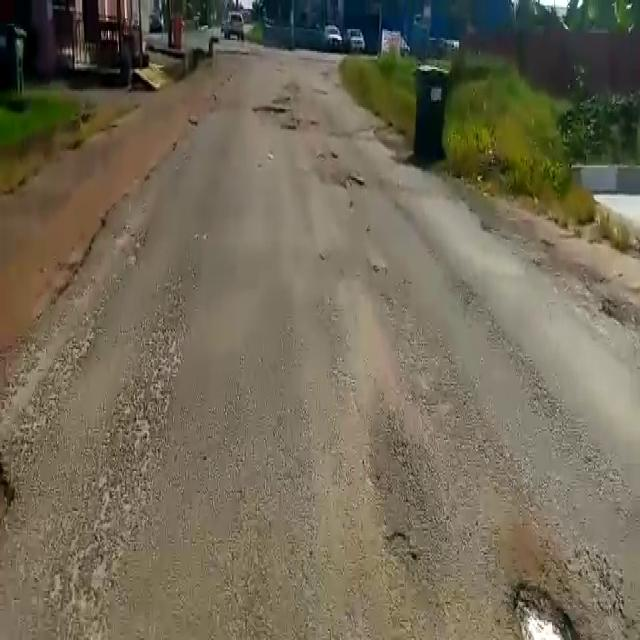Pothole: (513, 581, 590, 640), (332, 173, 371, 191), (250, 103, 291, 119)
